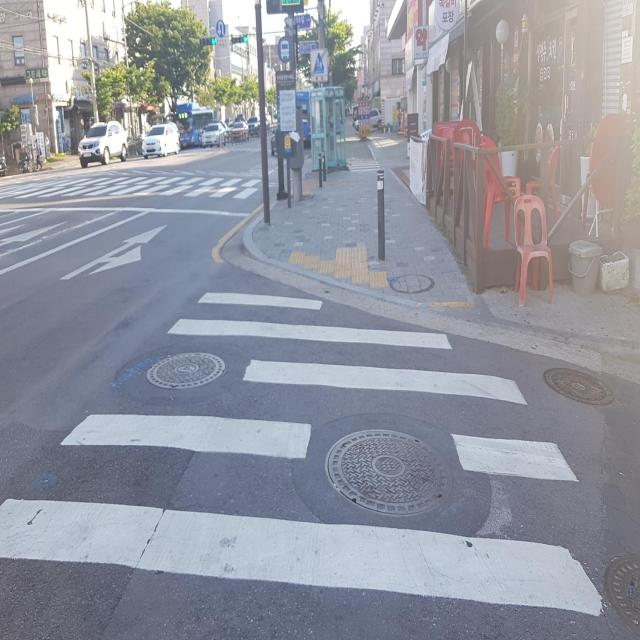횡단보도: (0, 286, 607, 619), (0, 174, 261, 197)
